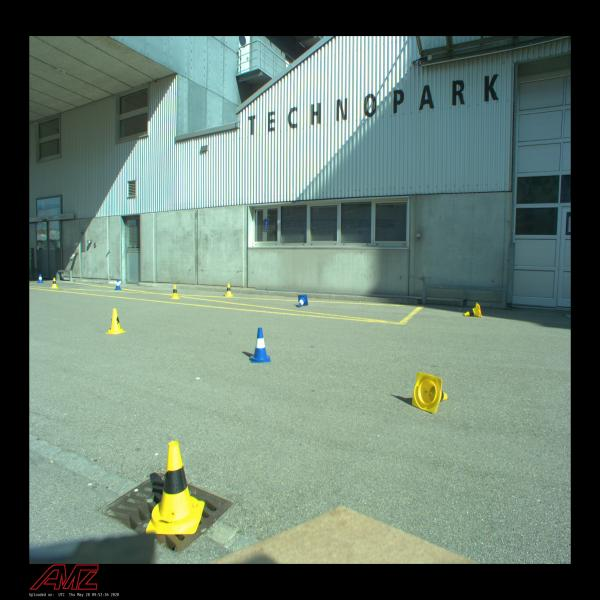blue_cone: (250, 327, 271, 363), (298, 294, 308, 308), (114, 279, 122, 290), (37, 274, 44, 283)
yellow_cone: (145, 441, 205, 534), (412, 372, 447, 414), (105, 308, 126, 335), (464, 302, 482, 318), (170, 285, 180, 299), (225, 283, 233, 297), (51, 278, 58, 288)
